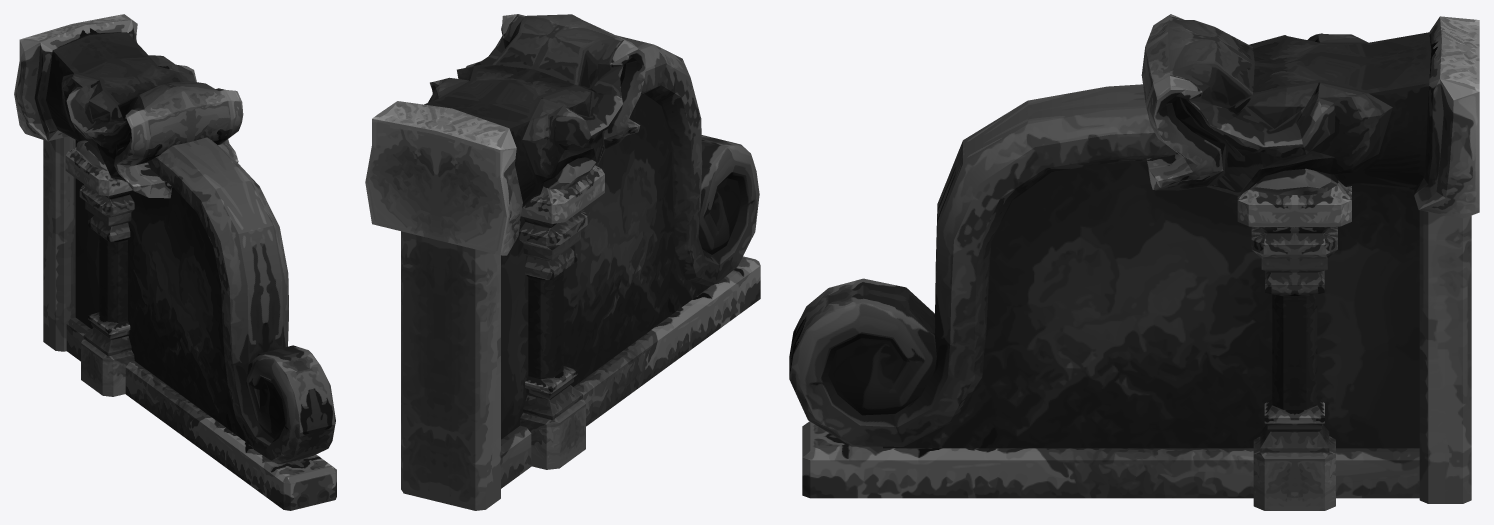
The model's file is VV-Korawakgala.fbx.
3 renders of one model, left to right at view 1: azimuth 30°, elevation 25°; view 2: azimuth 150°, elevation 25°; view 3: azimuth 270°, elevation 25°, orthographic. The views are drawn at different scales.
Parts seen in each view (by area): view 1: Korawakgala; view 2: Korawakgala; view 3: Korawakgala.
Part boxes in pixels (box(x1,y1,x2,y2)): Korawakgala: box(14, 14, 336, 510); Korawakgala: box(365, 14, 760, 510); Korawakgala: box(789, 14, 1479, 510).
Bounding box in the file's own units: 0.9201 × 2.2 × 3.07.
